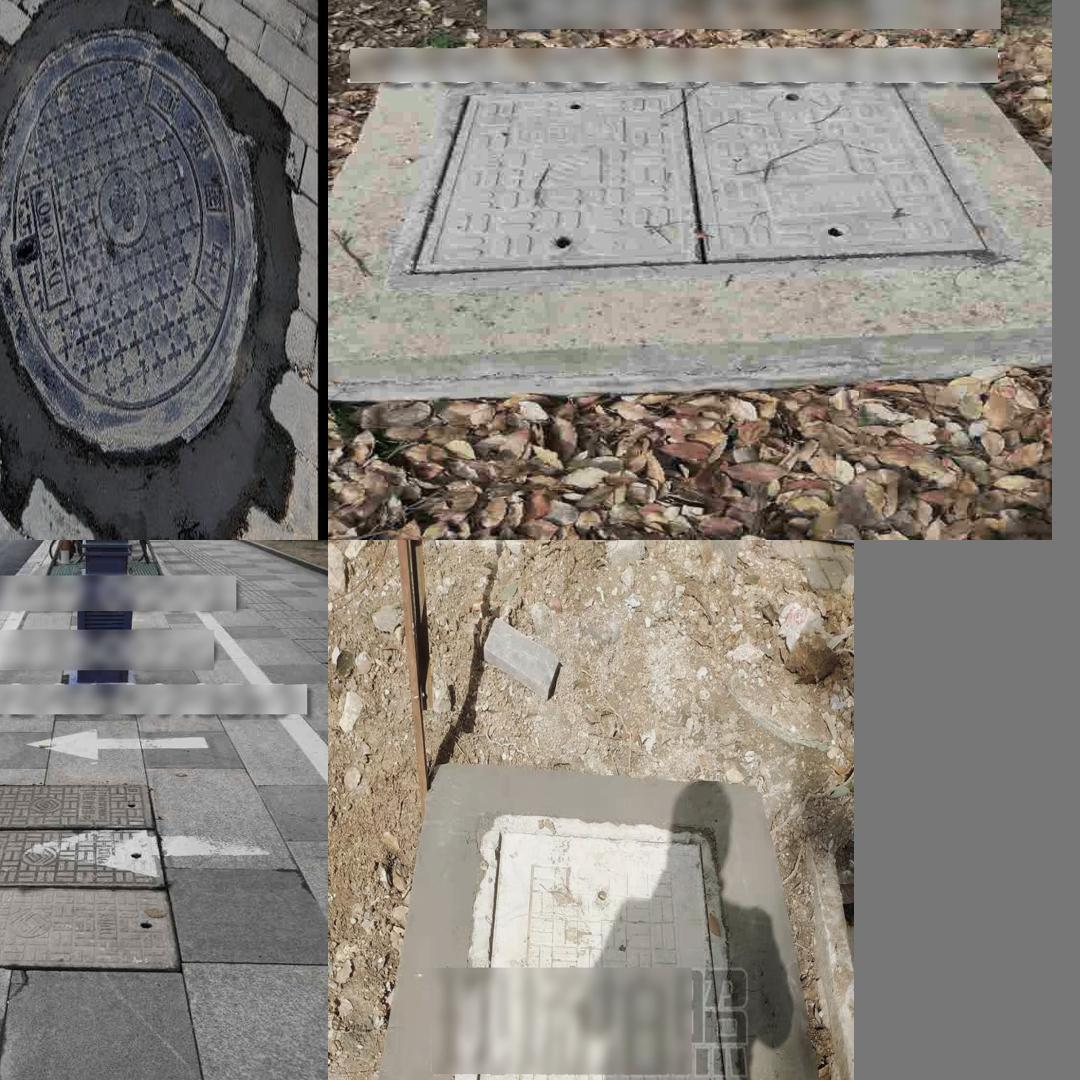good: (0, 0, 312, 524), (385, 72, 1016, 286), (437, 814, 755, 1080), (0, 778, 185, 975)
